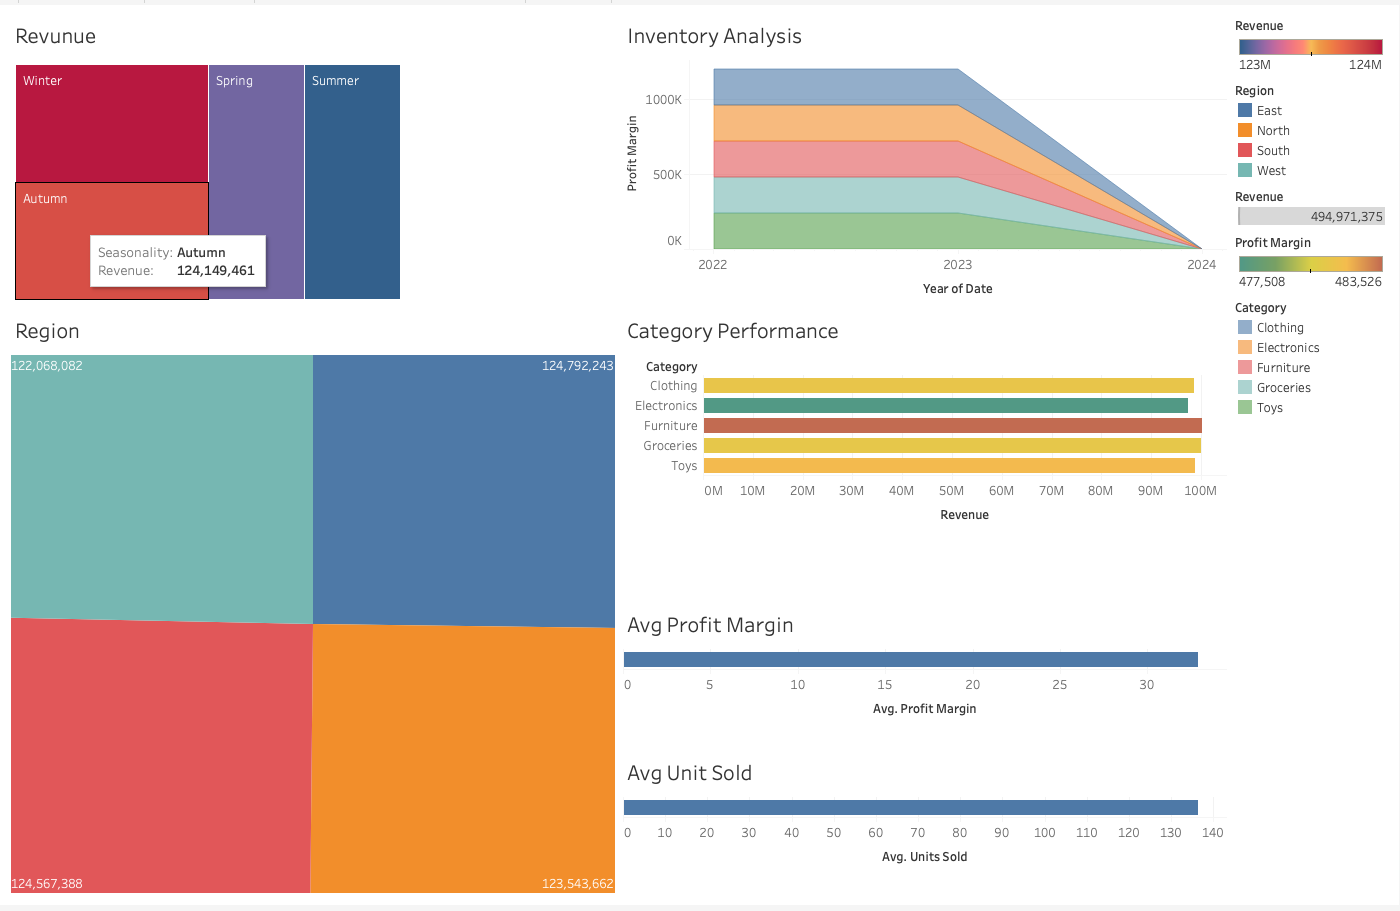

Layout of this report page (visuals, bound fields, positions):
{"tool":"tableau","page":{"name":"Dashboard 1","canvas":[1000,1000],"units":"permille","ordinal":0},"visuals":[{"type":"worksheet","title":"Revenue","mark":"Automatic","box":[5.7,8.9,437.2,327.4]},{"type":"worksheet","title":"Inventory Analysis","mark":"Area","rows":["Calculation_1909315186721832960"],"cols":["Date"],"box":[442.9,8.9,437.1,327.4]},{"type":"legend","title":"Revenue","param":"[federated.1ech3e30fc5s4o1gglil80bsl8yr].[sum:Calculation_1909315186722537475:qk","box":[880,8.9,114.3,72.2]},{"type":"legend","title":"Region","param":"[federated.1ech3e30fc5s4o1gglil80bsl8yr].[none:Region:nk]","box":[880,81.1,114.3,117.8]},{"type":"legend","title":"Region","param":"[federated.1ech3e30fc5s4o1gglil80bsl8yr].[sum:Calculation_1909315186722537475:qk","box":[880,198.9,114.3,51.1]},{"type":"legend","title":"Category Performance","param":"[federated.1ech3e30fc5s4o1gglil80bsl8yr].[sum:Calculation_1909315186721832960:qk","box":[880,250,114.3,72.2]},{"type":"legend","title":"Inventory Analysis","param":"[federated.1ech3e30fc5s4o1gglil80bsl8yr].[none:Category:nk]","box":[880,322.2,114.3,140]},{"type":"worksheet","title":"Region","mark":"Pie","box":[5.7,336.3,437.1,654.8]},{"type":"worksheet","title":"Category Performance","mark":"Automatic","rows":["Category"],"cols":["Calculation_1909315186722537475"],"box":[442.9,336.3,437.2,327.4]},{"type":"worksheet","title":"Avg Profit Margin","mark":"Automatic","cols":["Calculation_1909315186721832960"],"box":[442.9,663.7,437.2,163.7]},{"type":"worksheet","title":"Avg Unit Sold ","mark":"Automatic","cols":["Units Sold"],"box":[442.9,827.4,437.2,163.7]}]}

Visuals, with their boxes on the dashboard's canvas, which has no fixed pixel size, in thousandths of its width and height (x1, y1, x2, y2). These are canvas units, not pixel positions in the 1400x911 screenshot, which may show the page scaled, cropped or inside an application window:
"Revenue" worksheet: bbox=(6, 9, 443, 336)
"Inventory Analysis" worksheet (Area marks): bbox=(443, 9, 880, 336)
"Revenue" legend: bbox=(880, 9, 994, 81)
"Region" legend: bbox=(880, 81, 994, 199)
"Region" legend: bbox=(880, 199, 994, 250)
"Category Performance" legend: bbox=(880, 250, 994, 322)
"Inventory Analysis" legend: bbox=(880, 322, 994, 462)
"Region" worksheet (Pie marks): bbox=(6, 336, 443, 991)
"Category Performance" worksheet: bbox=(443, 336, 880, 664)
"Avg Profit Margin" worksheet: bbox=(443, 664, 880, 827)
"Avg Unit Sold " worksheet: bbox=(443, 827, 880, 991)
